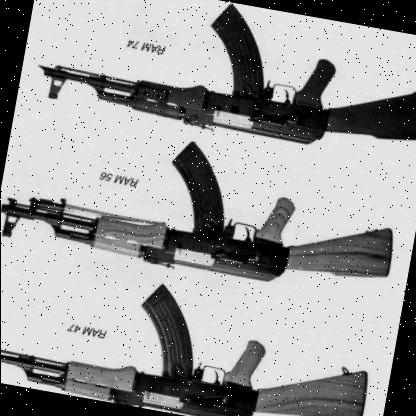rifle: (3, 106, 408, 305), (0, 246, 386, 416), (36, 0, 416, 169)
